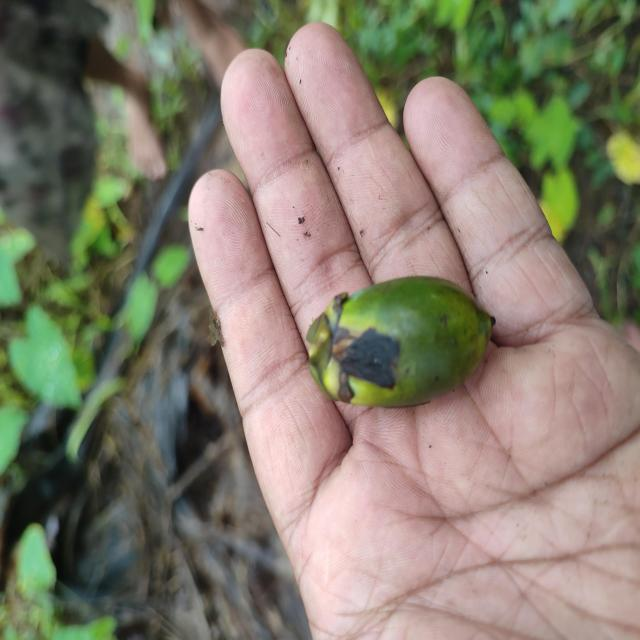good: (304, 277, 496, 410)
